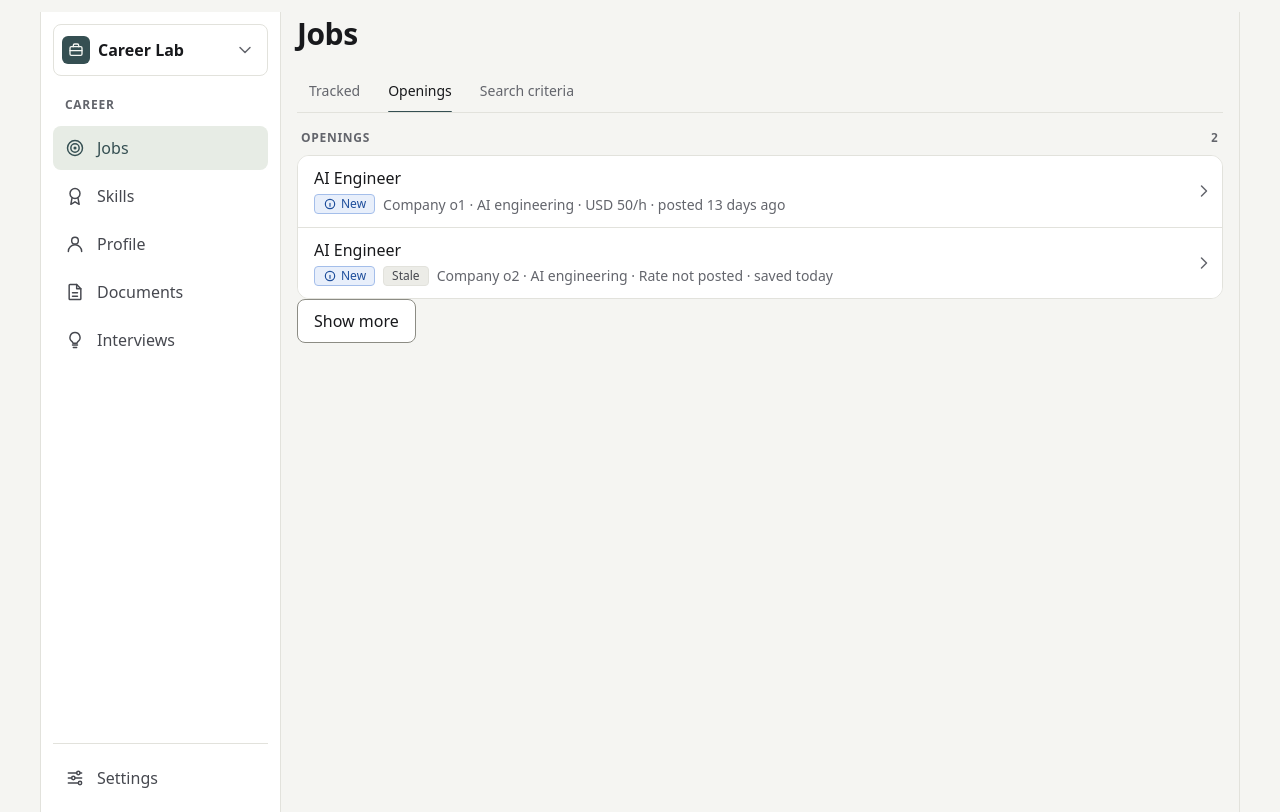
Test case: Openings › lists what the search saved, stale ones marked, and pages with Show more
This screenshot has width=1280, height=812.
Check: the 2nd button reads "AI Engineer Company o1 · AI engineering · USD 50/h · posted 13 days ago", box 298,156 -> 1222,227
Check: the 3rd button shows "Rate not posted", box 298,227 -> 1222,298
Step 1. Click the button "Show more" → (356, 321), box 297,299 -> 416,343
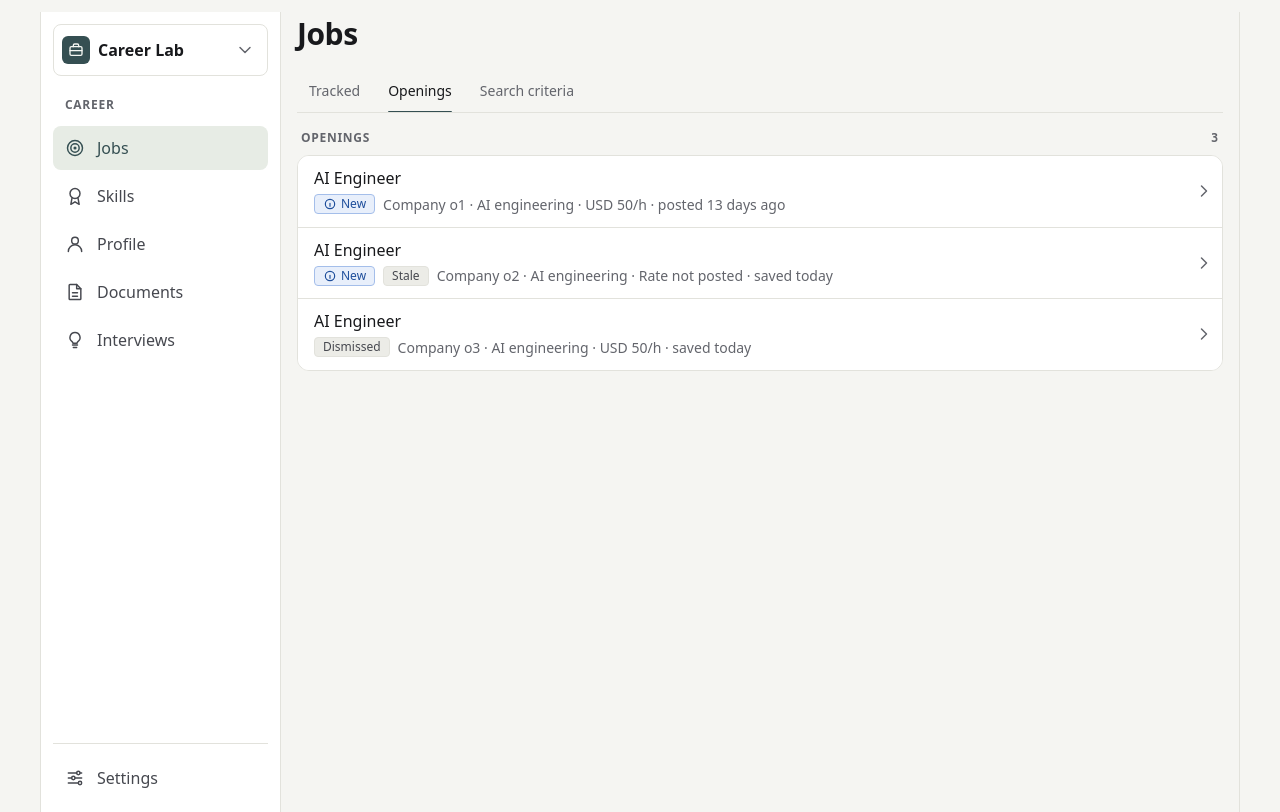
Check: the text "Dismissed" is shown, box 314,337 -> 390,357
Check: the button "Show more" is gone
